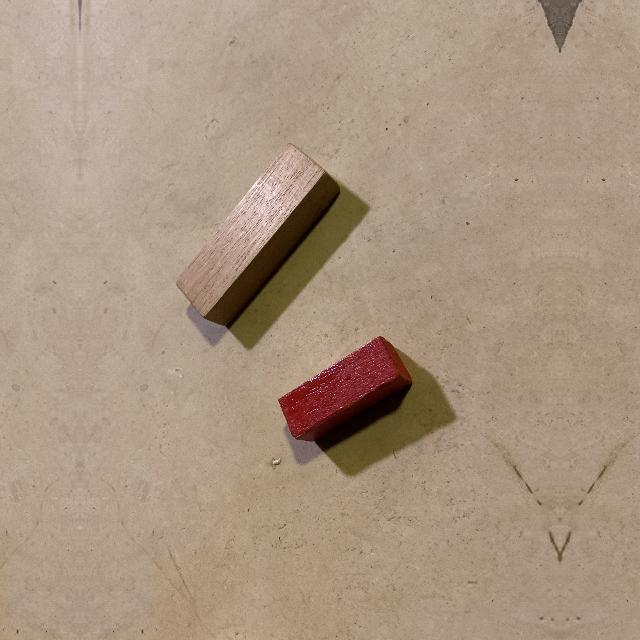jenga: (175, 143, 340, 327)
red block: (277, 335, 415, 443)
